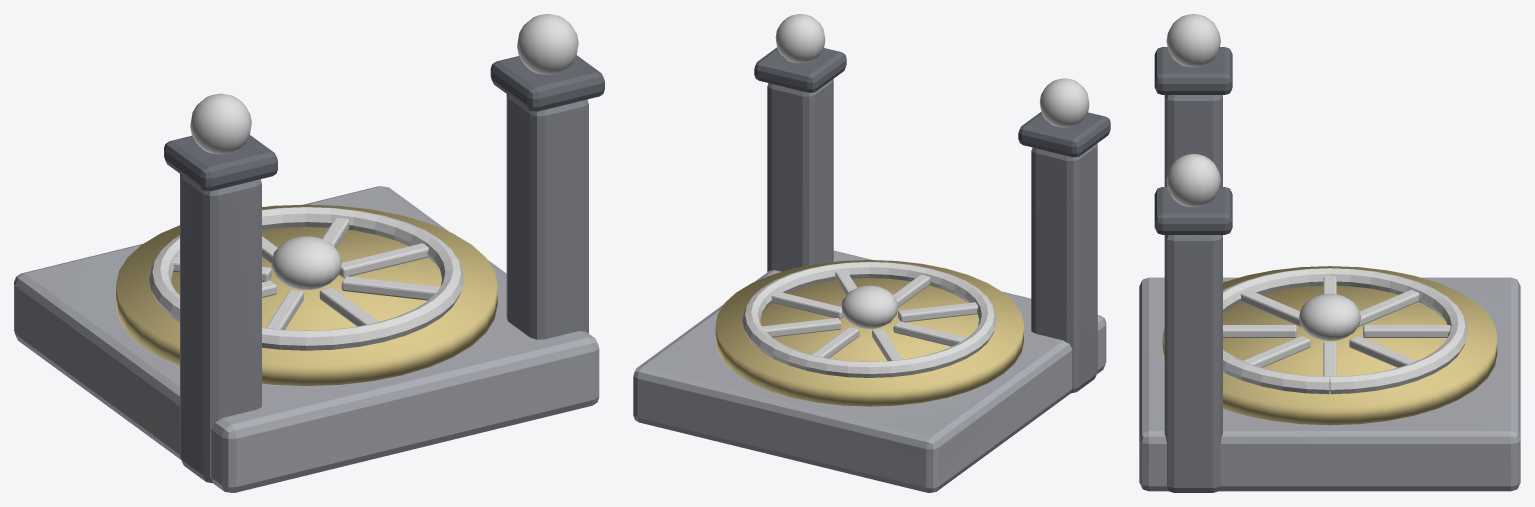
File: gym_goal_lite.glb
The picture shows the model from 3 angles, left to right: view 1: azimuth 30°, elevation 25°; view 2: azimuth 150°, elevation 25°; view 3: azimuth 270°, elevation 25°; orthographic projection. The views are drawn at different scales.
Parts seen in each view (by area): view 1: Cube; view 2: Cube; view 3: Cube.
Part boxes in pixels (x1=…): Cube: x1=14, y1=14, x2=604, y2=492; Cube: x1=633, y1=14, x2=1110, y2=492; Cube: x1=1139, y1=14, x2=1520, y2=492.
Bounding box in the file's own units: 2.1 × 1.86 × 1.96.
